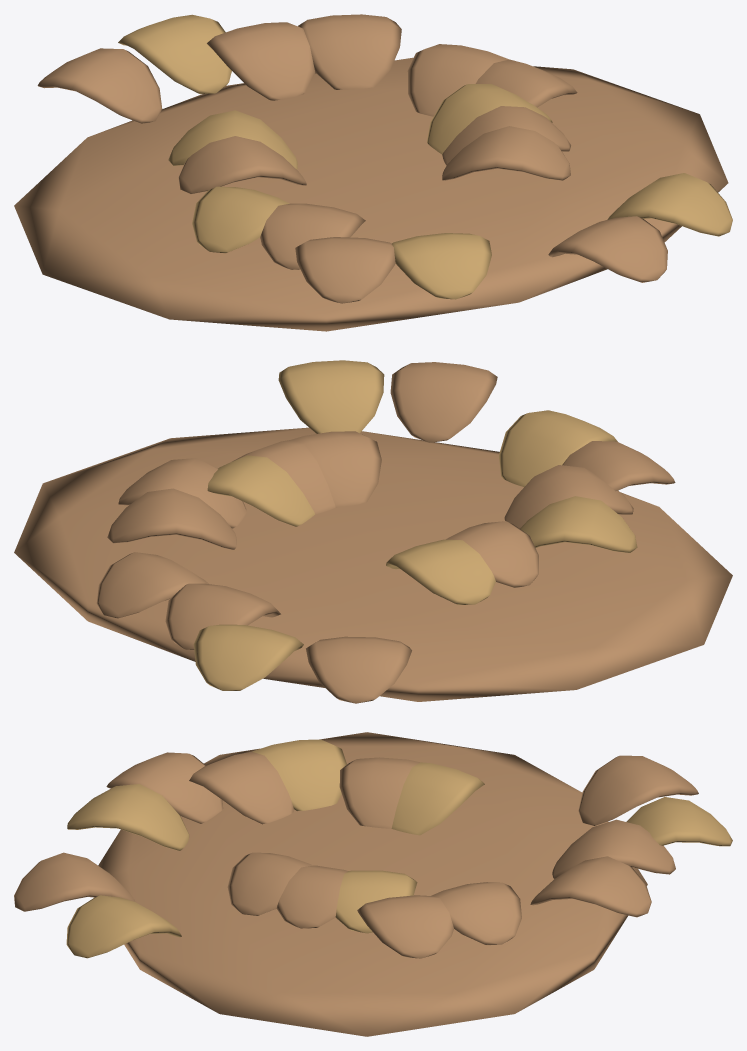
Rendered from leafpile.glb.
3 views of the same model, one above another, from view 1: azimuth 30°, elevation 25°; view 2: azimuth 150°, elevation 25°; view 3: azimuth 270°, elevation 25° (orthographic). The views are drawn at different scales.
Visible parts, largest first — view 1: low-grounded-leaf-mound, fallen-leaf-10, fallen-leaf-2, fallen-leaf-7, fallen-leaf-15, fallen-leaf-14, fallen-leaf-6, fallen-leaf-11, fallen-leaf-3, fallen-leaf-16, fallen-leaf-4, fallen-leaf-9 (+6 smaller); view 2: low-grounded-leaf-mound, fallen-leaf-11, fallen-leaf-3, fallen-leaf-7, fallen-leaf-15, fallen-leaf-6, fallen-leaf-5, fallen-leaf-12, fallen-leaf-10, fallen-leaf-9, fallen-leaf-2, fallen-leaf-0 (+6 smaller); view 3: low-grounded-leaf-mound, fallen-leaf-7, fallen-leaf-6, fallen-leaf-1, fallen-leaf-13, fallen-leaf-3, fallen-leaf-10, fallen-leaf-9, fallen-leaf-11, fallen-leaf-12, fallen-leaf-5, fallen-leaf-14 (+6 smaller).
Part boxes in pixels (x1=…): low-grounded-leaf-mound: x1=14, y1=57, x2=728, y2=331; fallen-leaf-10: x1=298, y1=14, x2=401, y2=89; fallen-leaf-2: x1=207, y1=22, x2=315, y2=100; fallen-leaf-7: x1=37, y1=48, x2=162, y2=123; fallen-leaf-15: x1=118, y1=14, x2=231, y2=94; fallen-leaf-14: x1=295, y1=237, x2=395, y2=303; fallen-leaf-6: x1=392, y1=233, x2=491, y2=299; fallen-leaf-11: x1=548, y1=216, x2=667, y2=282; fallen-leaf-3: x1=607, y1=173, x2=732, y2=236; fallen-leaf-16: x1=442, y1=126, x2=570, y2=180; fallen-leaf-4: x1=178, y1=136, x2=306, y2=193; fallen-leaf-9: x1=192, y1=186, x2=289, y2=253; low-grounded-leaf-mound: x1=14, y1=427, x2=732, y2=701; fallen-leaf-11: x1=390, y1=362, x2=497, y2=442; fallen-leaf-3: x1=278, y1=360, x2=384, y2=433; fallen-leaf-7: x1=306, y1=636, x2=411, y2=703; fallen-leaf-15: x1=193, y1=624, x2=303, y2=690; fallen-leaf-6: x1=498, y1=410, x2=617, y2=486; fallen-leaf-5: x1=107, y1=488, x2=236, y2=549; fallen-leaf-12: x1=386, y1=539, x2=495, y2=604; fallen-leaf-10: x1=96, y1=552, x2=208, y2=618; fallen-leaf-9: x1=520, y1=496, x2=637, y2=552; fallen-leaf-2: x1=165, y1=583, x2=280, y2=649; fallen-leaf-0: x1=207, y1=455, x2=314, y2=526; low-grounded-leaf-mound: x1=98, y1=732, x2=647, y2=1036; fallen-leaf-7: x1=578, y1=755, x2=698, y2=825; fallen-leaf-6: x1=67, y1=784, x2=189, y2=850; fallen-leaf-1: x1=189, y1=751, x2=293, y2=824; fallen-leaf-13: x1=357, y1=895, x2=453, y2=958; fallen-leaf-3: x1=66, y1=895, x2=181, y2=958; fallen-leaf-10: x1=530, y1=856, x2=651, y2=917; fallen-leaf-9: x1=252, y1=739, x2=346, y2=810; fallen-leaf-11: x1=14, y1=852, x2=135, y2=911; fallen-leaf-12: x1=391, y1=762, x2=484, y2=835; fallen-leaf-5: x1=431, y1=882, x2=521, y2=945; fallen-leaf-14: x1=106, y1=752, x2=223, y2=823.
Bounding box in the file's own units: 0.7684 × 0.1121 × 0.7663.
